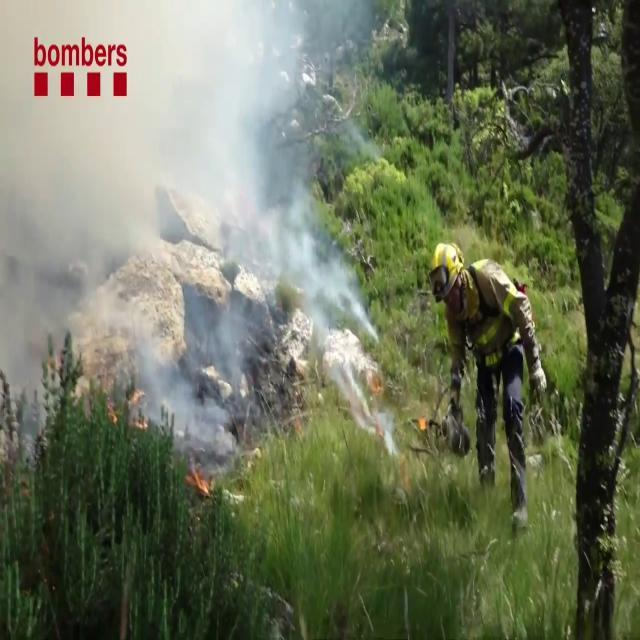Smoke: (0, 0, 352, 435)
